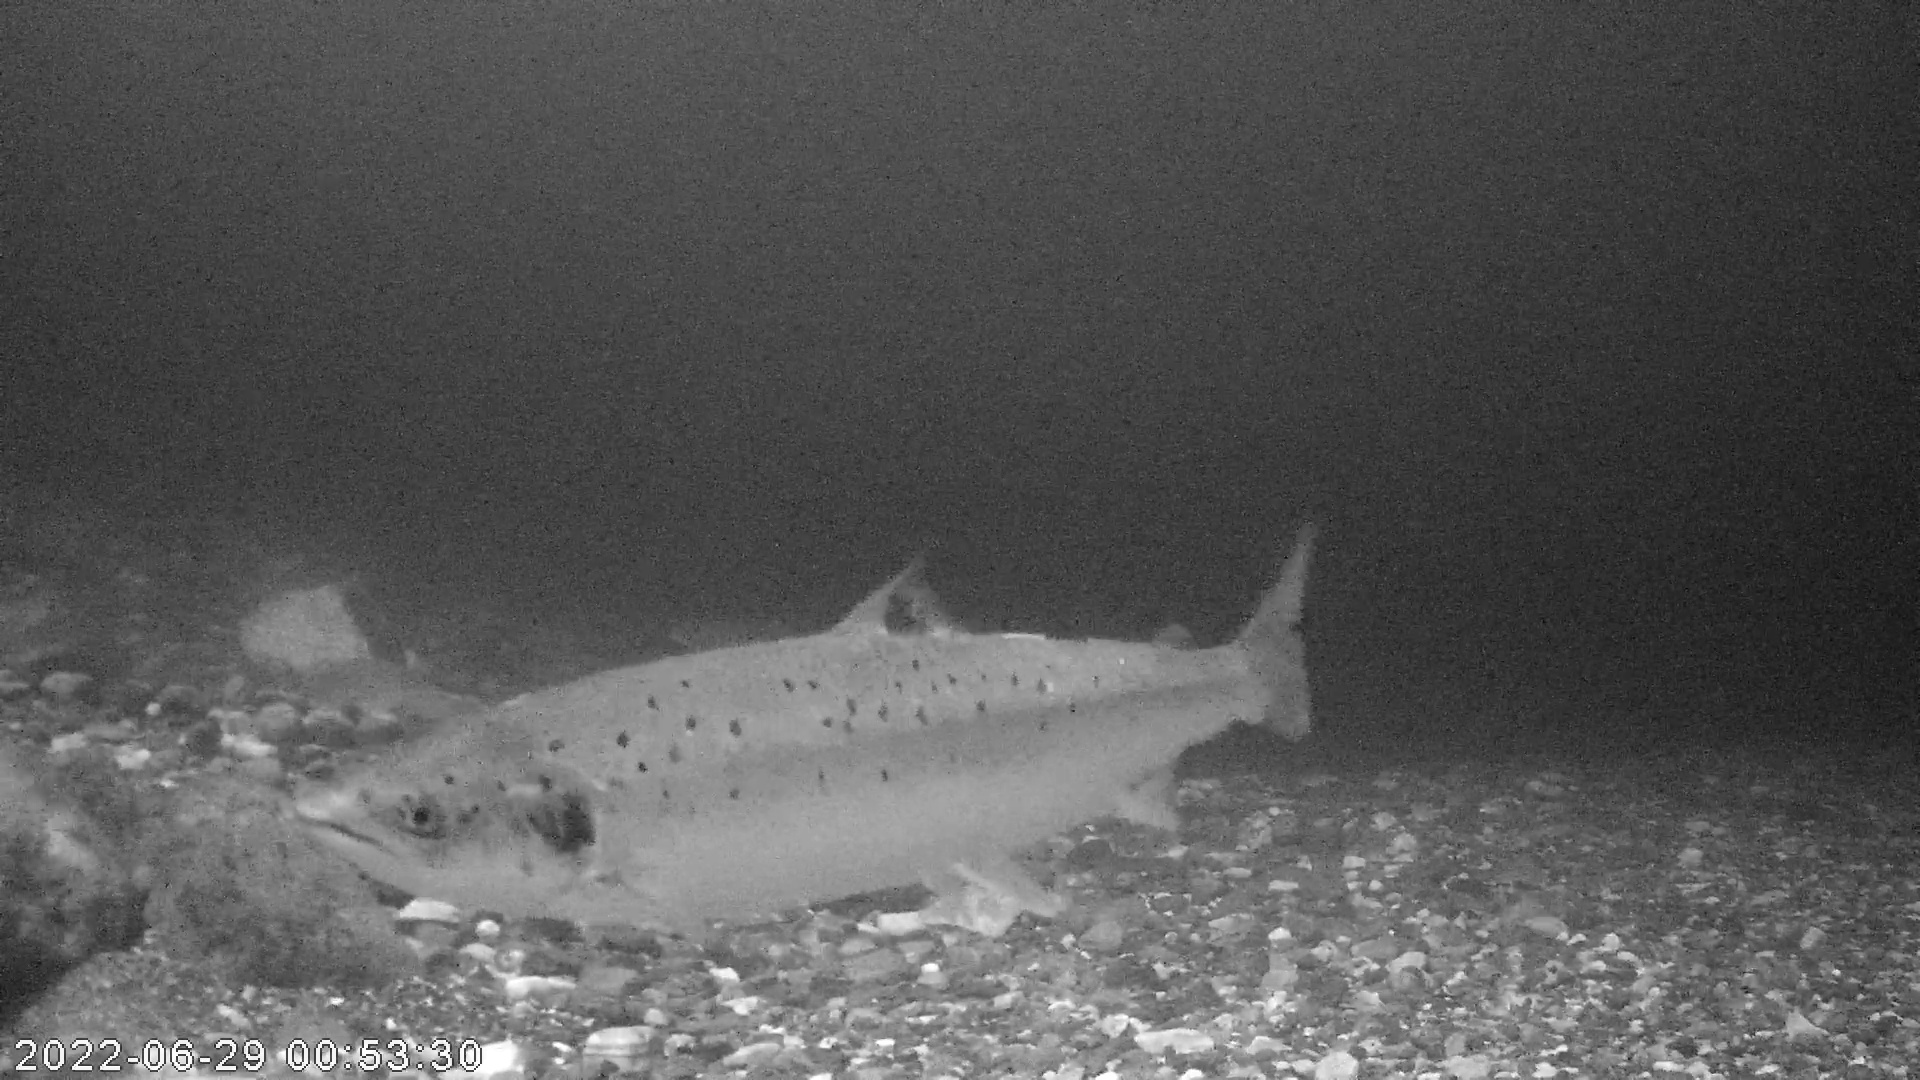salmon: (289, 509, 1319, 942)
